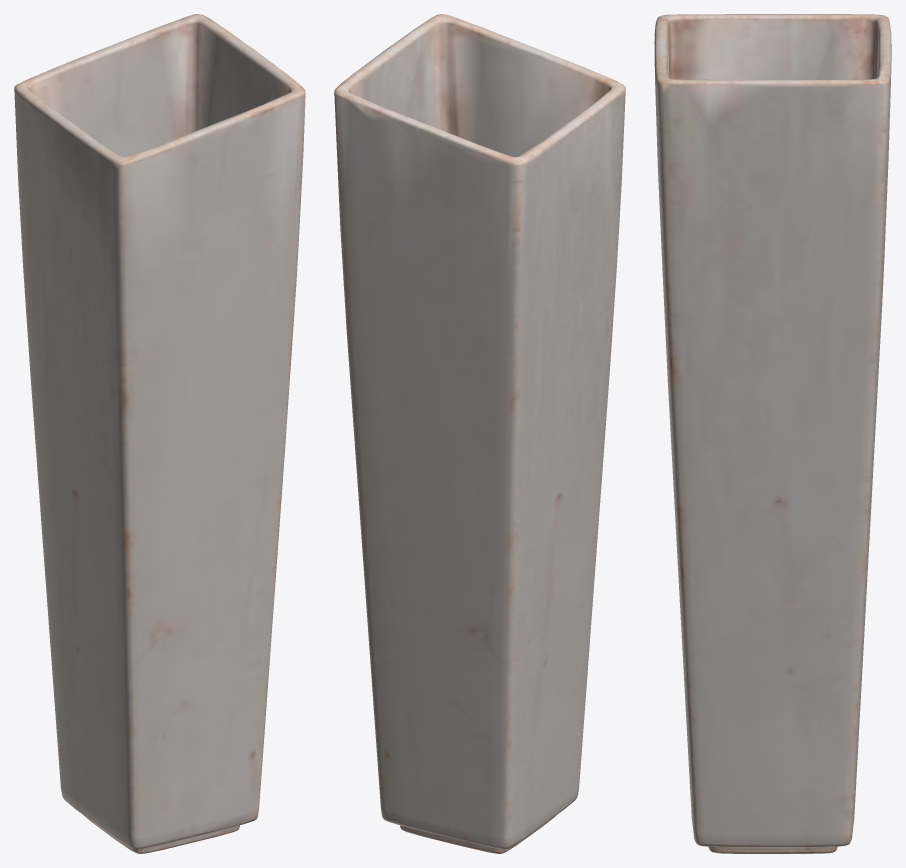
The model's file is ceramic_vase_03.glb.
3 renders of one model, left to right at view 1: azimuth 30°, elevation 25°; view 2: azimuth 150°, elevation 25°; view 3: azimuth 270°, elevation 25°, orthographic. The views are drawn at different scales.
Parts seen in each view (by area): view 1: ceramic_vase_03; view 2: ceramic_vase_03; view 3: ceramic_vase_03.
Boxes of the visible parts, bbox=[...] form: ceramic_vase_03: bbox=[14, 14, 305, 853]; ceramic_vase_03: bbox=[334, 14, 625, 853]; ceramic_vase_03: bbox=[654, 14, 891, 853].
Size of the model in its own units: 0.1121 by 0.4143 by 0.1121.
1 material, 1 textured.
